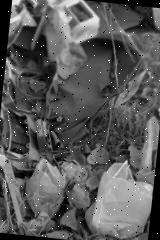plastic: (86, 156, 154, 237), (23, 157, 68, 219)
